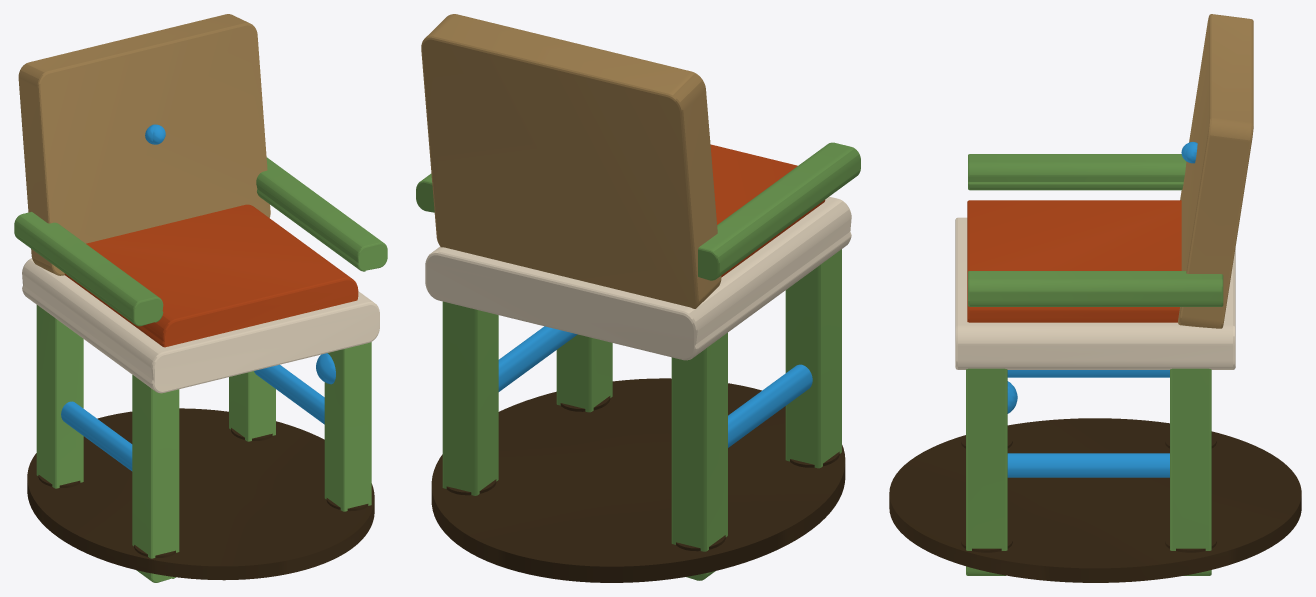
File: 0955_农业科技图鉴_葡萄柚.glb
3 renders of one model, left to right at view 1: azimuth 30°, elevation 25°; view 2: azimuth 150°, elevation 25°; view 3: azimuth 270°, elevation 25°, orthographic. The views are drawn at different scales.
Visible parts, largest first — view 1: card_0955; view 2: card_0955; view 3: card_0955.
Boxes of the visible parts, x1,y1,x2,y2 form: card_0955: (14, 14, 387, 582); card_0955: (416, 14, 860, 582); card_0955: (889, 14, 1301, 582).
Bounding box in the file's own units: 0.7078 × 1 × 0.8212.
